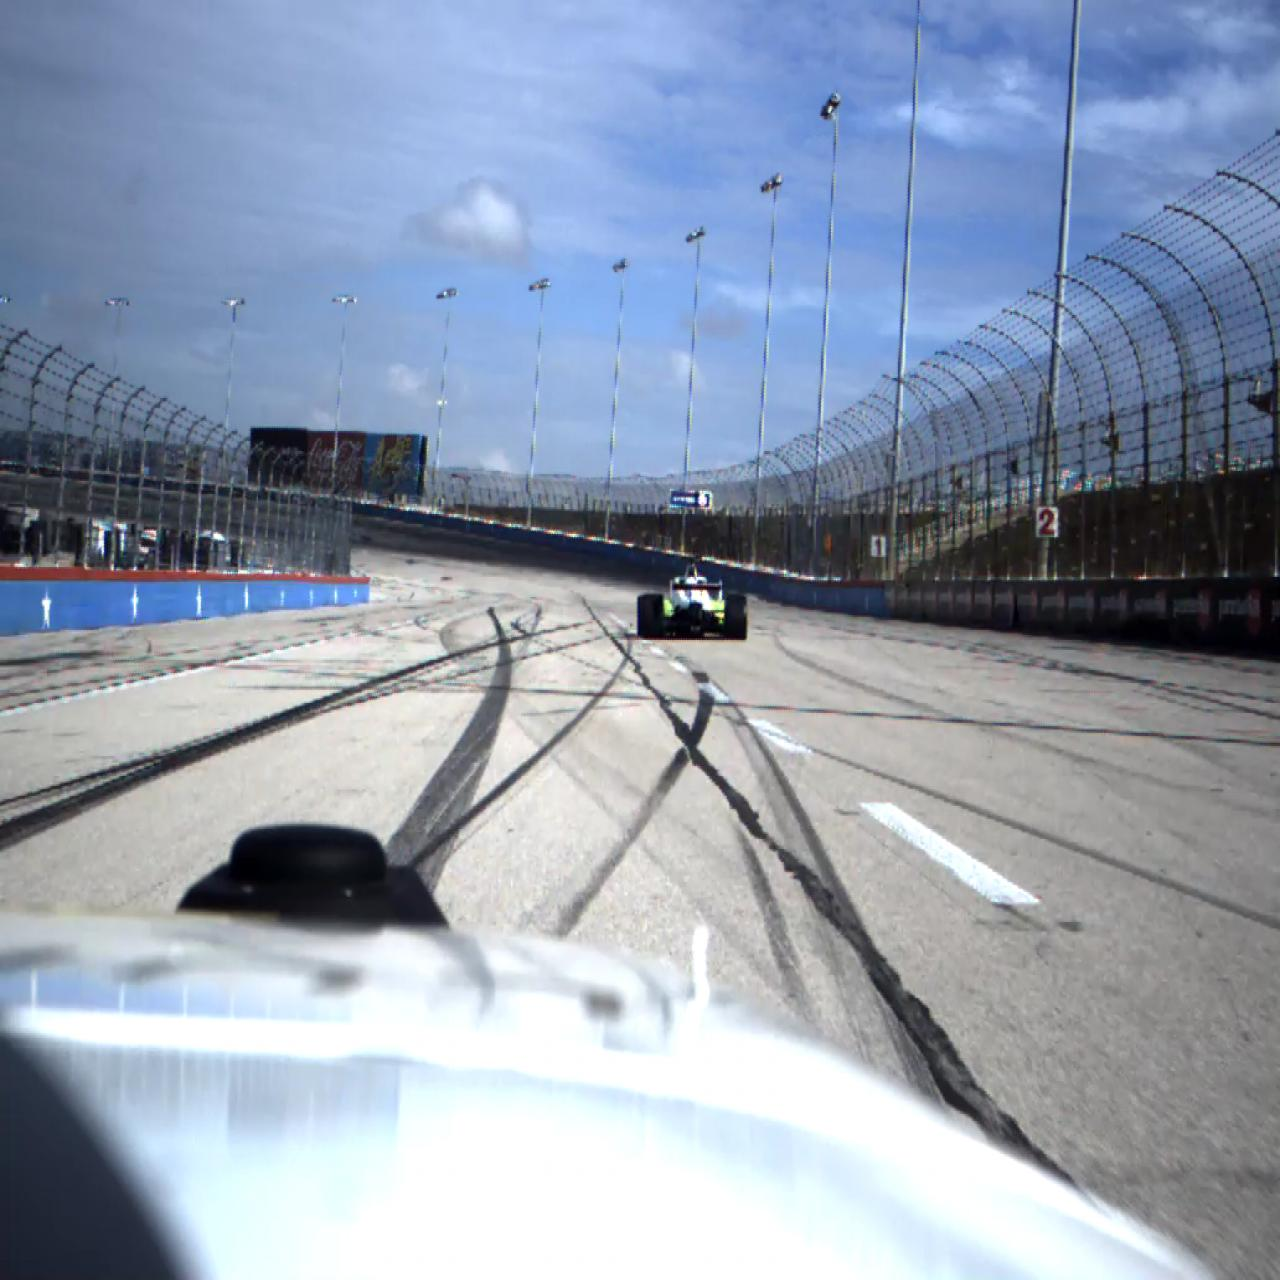AV: (637, 556, 747, 641)
Wheel: (637, 594, 664, 640), (724, 594, 747, 640)
